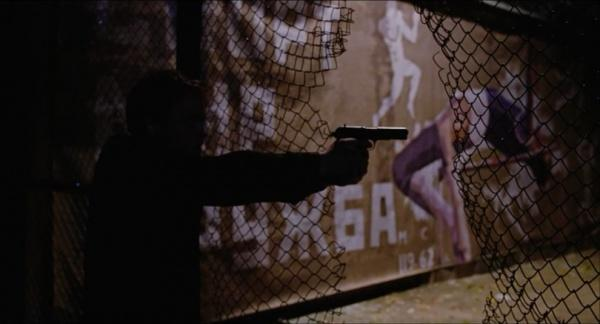Gun: (334, 124, 410, 146)
